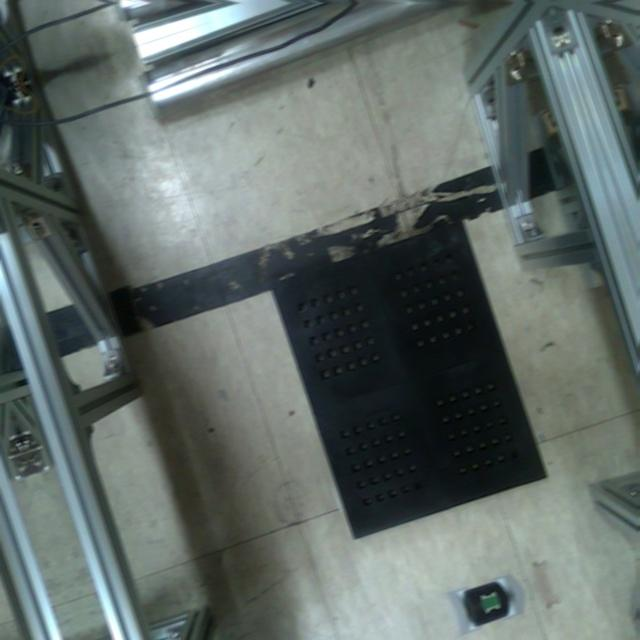pallet: (266, 209, 556, 544)
